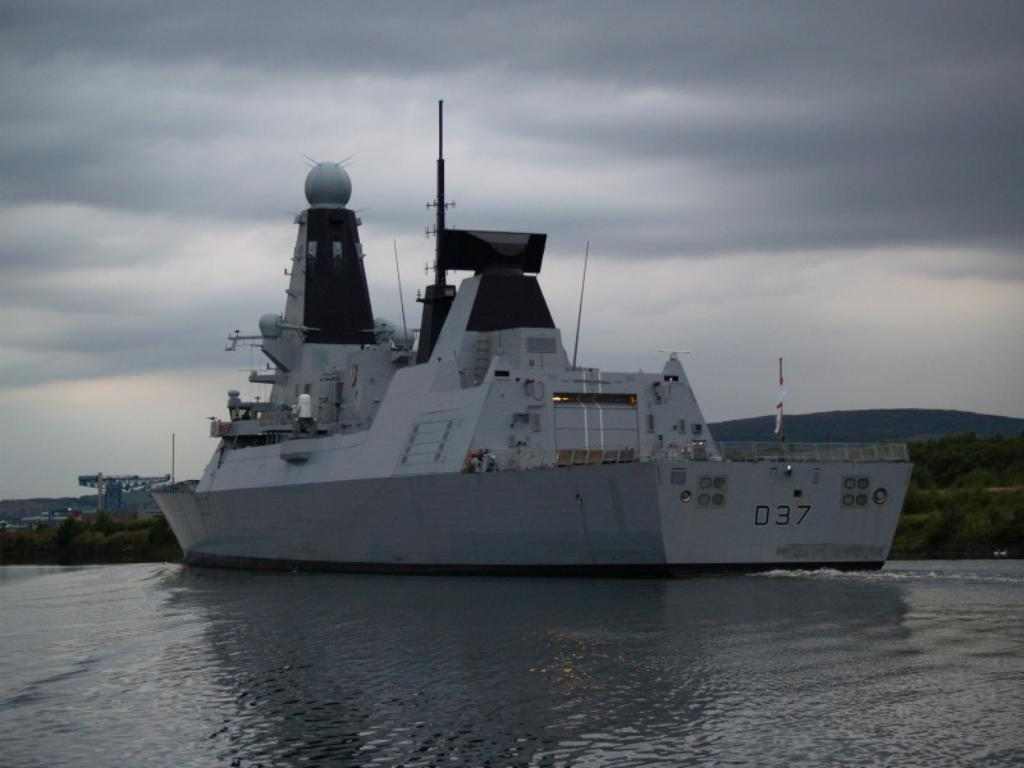Warship: (150, 97, 928, 587)
